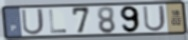7: (71, 6, 92, 36)
8: (96, 5, 117, 35)
9: (119, 5, 142, 34)
L: (47, 9, 68, 34)
U: (142, 4, 168, 33), (20, 8, 46, 36)
